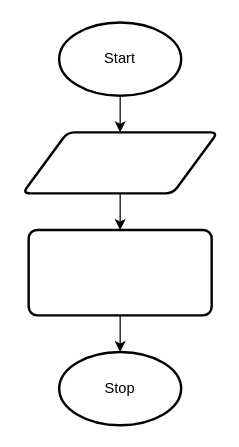
Some shapes in this 239 by 447 pixel diagram are drawn without their labels. Each missing label, with the box of its shape:
get pushedNumber: (21, 131, 218, 194)
push pushedNumber into stackAsList: (27, 228, 212, 316)
